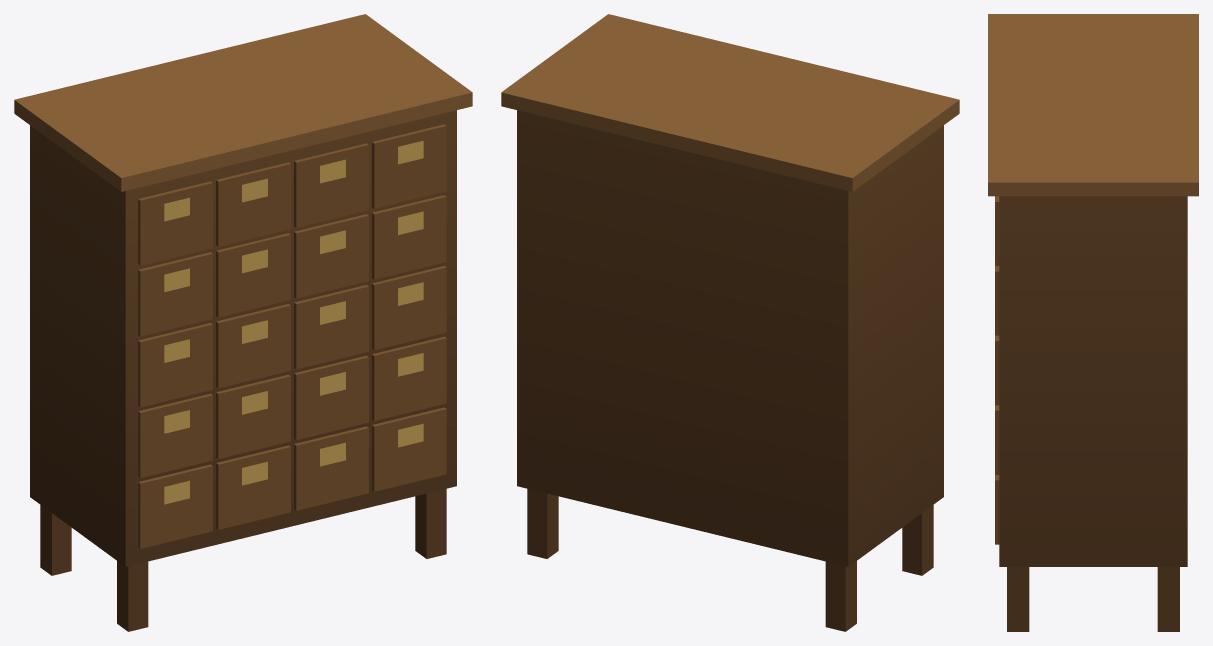
The model's file is SM_CardCatalog.fbx.
3 views of the same model, side by side, from view 1: azimuth 30°, elevation 25°; view 2: azimuth 150°, elevation 25°; view 3: azimuth 270°, elevation 25° (orthographic).
Visible parts, largest first — view 1: SM_CardCatalog; view 2: SM_CardCatalog; view 3: SM_CardCatalog.
Part boxes in pixels (x1,y1,x2,y2): SM_CardCatalog: [14, 14, 472, 631]; SM_CardCatalog: [501, 14, 959, 631]; SM_CardCatalog: [988, 14, 1198, 631].
Bounding box in the file's own units: 1.06 × 1.34 × 0.56.
